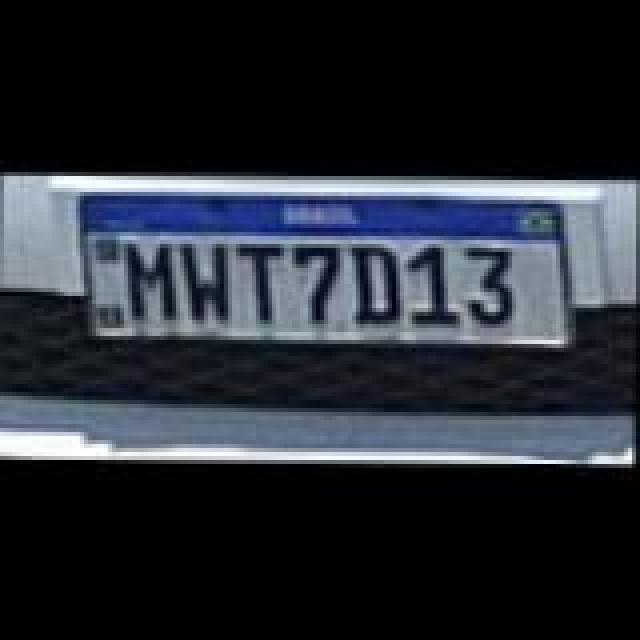1: (400, 242, 460, 326)
3: (456, 242, 516, 326)
7: (288, 240, 348, 324)
D: (348, 242, 408, 326)
M: (120, 240, 188, 324)
T: (232, 242, 292, 322)
W: (180, 238, 240, 322)
